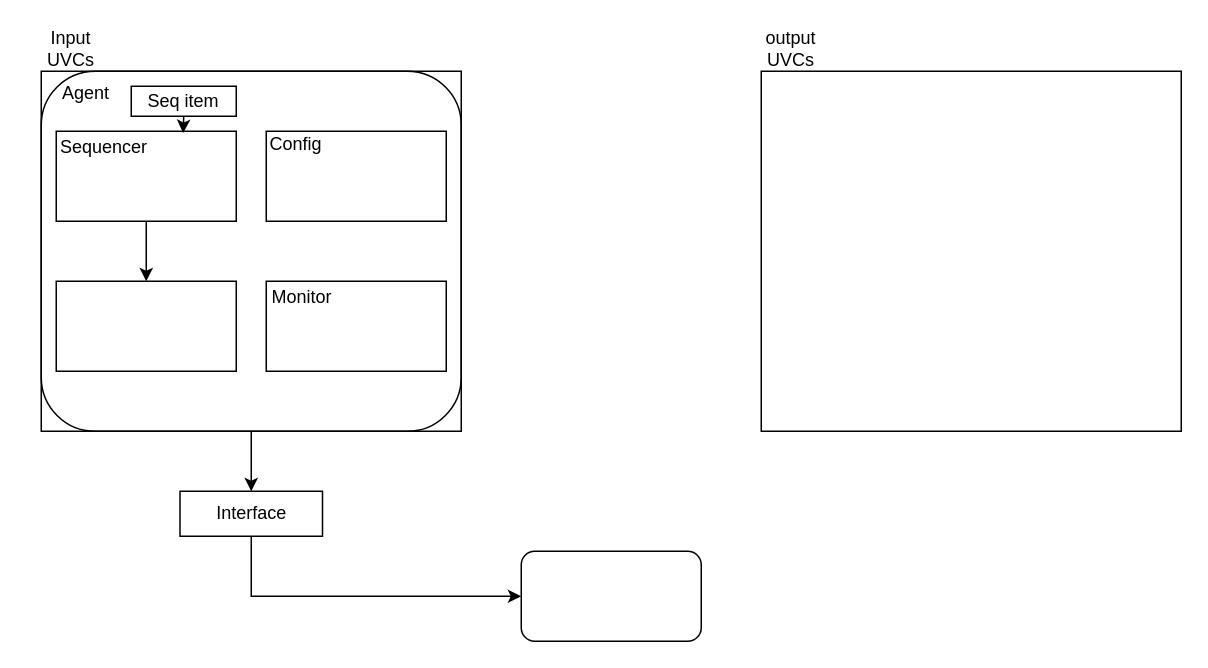
Image size: 1208x668. Some labels were removed from this diagram. The shapes that lost their labels are listed below. From the top down, each one's box as (x1, y1, x2, y2) in pixels, then its label:
(55, 280, 236, 371): Driver
(520, 550, 701, 641): Execute_Stage (DUT)
